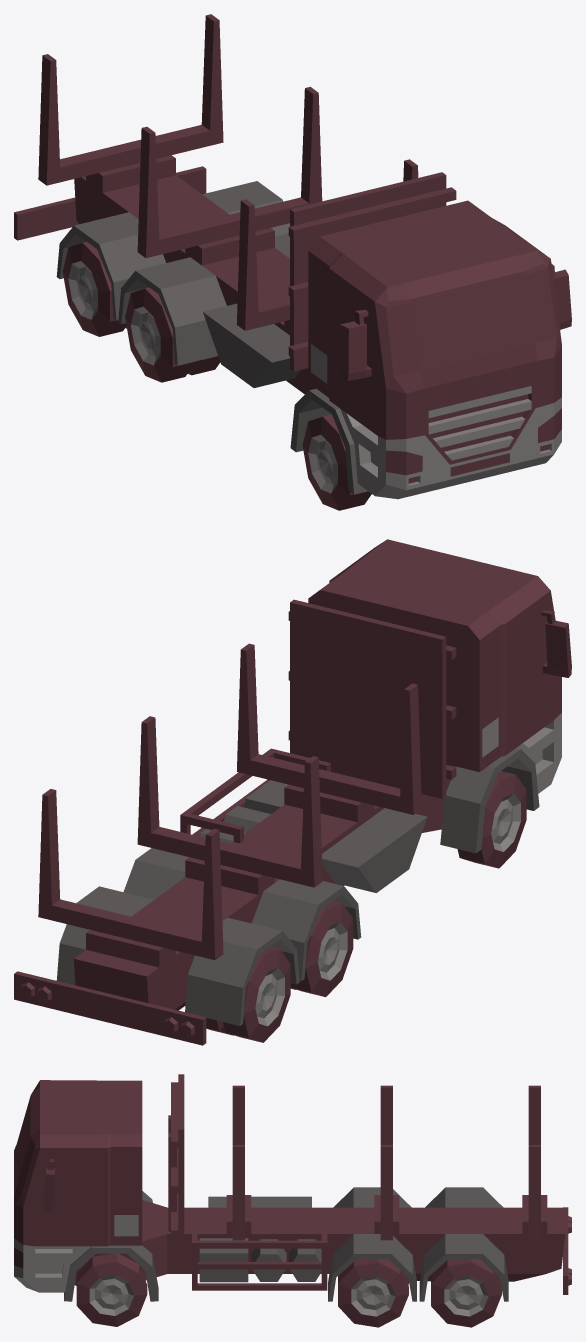
File: SM_Car_Truck_Logging.fbx
3 views of the same model, one above another, from view 1: azimuth 30°, elevation 25°; view 2: azimuth 150°, elevation 25°; view 3: azimuth 270°, elevation 25° (orthographic). The views are drawn at different scales.
Parts seen in each view (by area): view 1: SM_Car_Truck_Logging_Base, SM_Car_Truck_Logging_Wheel_BR1, SM_Car_Truck_Logging_Wheel_BR2, SM_Car_Truck_Logging_Wheel_FR; view 2: SM_Car_Truck_Logging_Base, SM_Car_Truck_Logging_Wheel_BR2, SM_Car_Truck_Logging_Wheel_BR1, SM_Car_Truck_Logging_Wheel_FR; view 3: SM_Car_Truck_Logging_Base, SM_Car_Truck_Logging_Wheel_FL, SM_Car_Truck_Logging_Wheel_BL1, SM_Car_Truck_Logging_Wheel_BL2.
Boxes of the visible parts, left/top/right/bottom form: SM_Car_Truck_Logging_Base: left=14, top=14, right=571, bottom=499; SM_Car_Truck_Logging_Wheel_BR1: left=125, top=287, right=220, bottom=382; SM_Car_Truck_Logging_Wheel_BR2: left=62, top=242, right=126, bottom=336; SM_Car_Truck_Logging_Wheel_FR: left=302, top=414, right=371, bottom=510; SM_Car_Truck_Logging_Base: left=14, top=539, right=571, bottom=1045; SM_Car_Truck_Logging_Wheel_BR2: left=206, top=946, right=290, bottom=1042; SM_Car_Truck_Logging_Wheel_BR1: left=290, top=901, right=353, bottom=997; SM_Car_Truck_Logging_Wheel_FR: left=457, top=771, right=526, bottom=868; SM_Car_Truck_Logging_Base: left=14, top=1074, right=571, bottom=1301; SM_Car_Truck_Logging_Wheel_FL: left=76, top=1253, right=147, bottom=1326; SM_Car_Truck_Logging_Wheel_BL1: left=338, top=1259, right=408, bottom=1327; SM_Car_Truck_Logging_Wheel_BL2: left=431, top=1259, right=501, bottom=1327.
Bounding box in the file's own units: 2.99 × 3.25 × 8.51.
